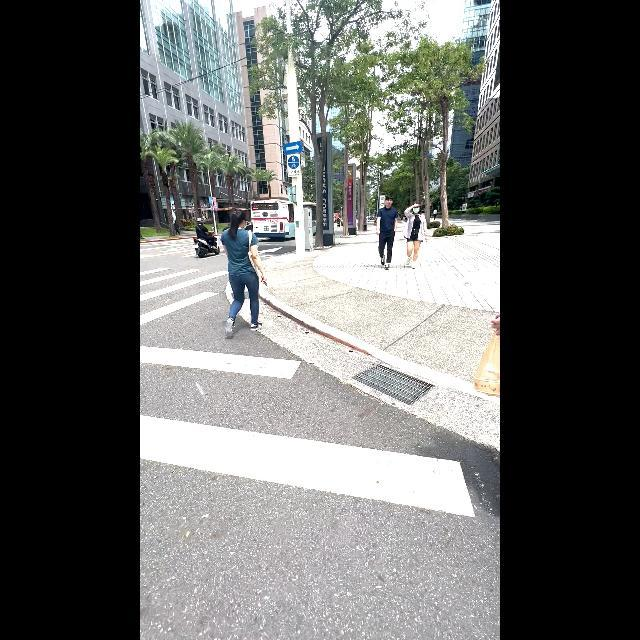sidewalk: (140, 296, 500, 640)
